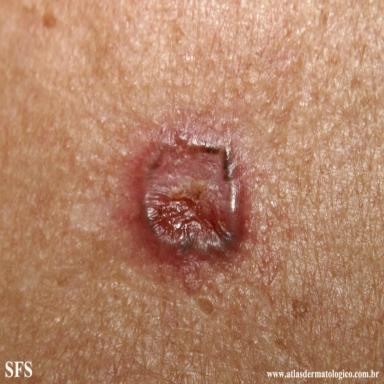basal-cell-carcinoma: (121, 129, 247, 292)
